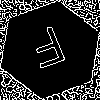F: (25, 25, 73, 79)
